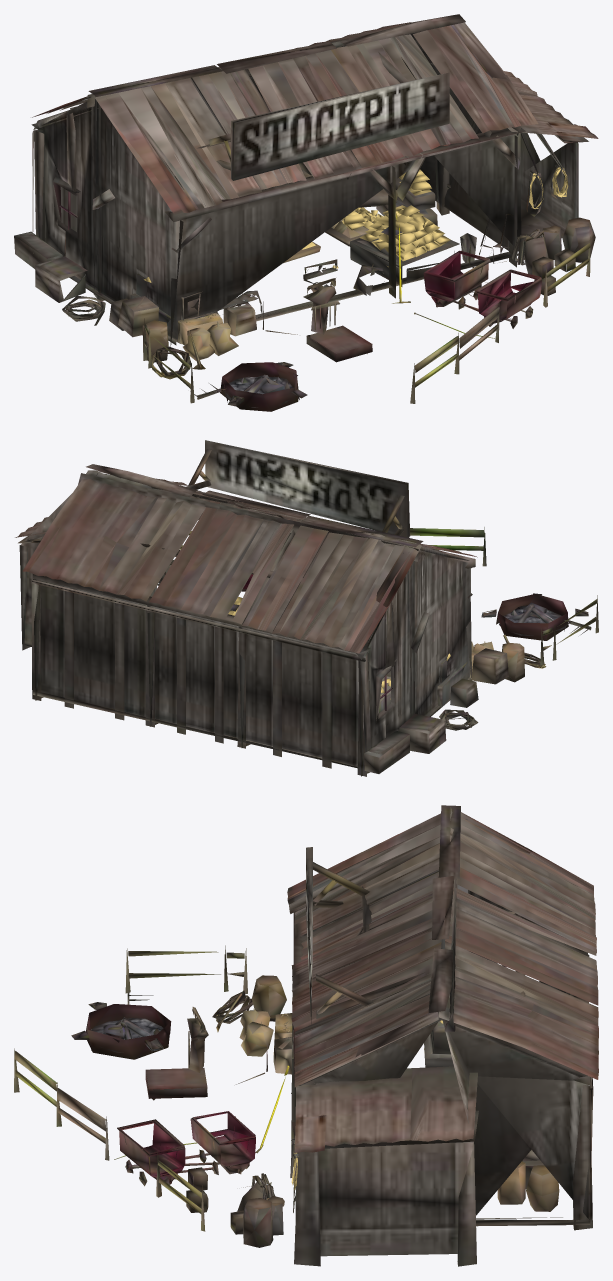
File: stockpile.glb
The picture shows the model from 3 angles, top to bottom: view 1: azimuth 30°, elevation 25°; view 2: azimuth 150°, elevation 25°; view 3: azimuth 270°, elevation 25°; orthographic projection. The views are drawn at different scales.
Parts seen in each view (by area): view 1: Stockpile_Shell; view 2: Stockpile_Shell; view 3: Stockpile_Shell.
Part boxes in pixels (bbox=[...]): Stockpile_Shell: bbox=[14, 14, 598, 411]; Stockpile_Shell: bbox=[15, 440, 598, 776]; Stockpile_Shell: bbox=[14, 805, 598, 1266].
Size of the model in its own units: 15.12 by 6.31 by 14.23.
Materials: 2 (1 with a texture image).
